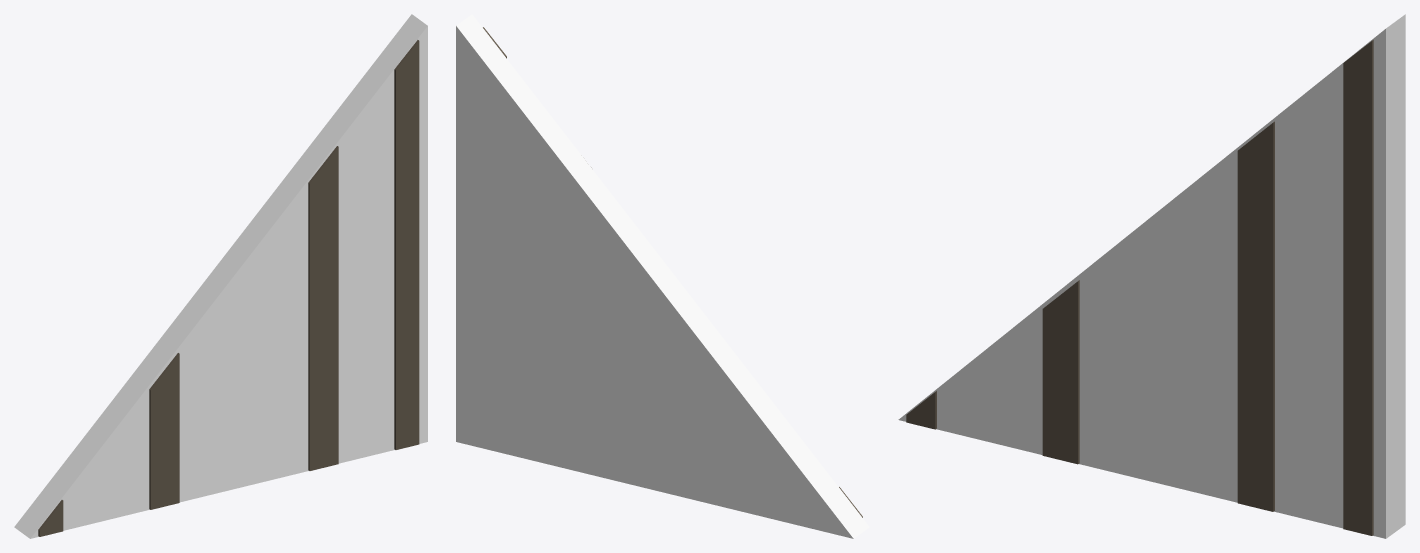
The model's file is _ROOF_trinagle_left_wood_1.fbx.
3 views of the same model, side by side, from view 1: azimuth 30°, elevation 25°; view 2: azimuth 150°, elevation 25°; view 3: azimuth 330°, elevation 25° (orthographic). The views are drawn at different scales.
Visible parts, largest first — view 1: ROOF_trinagle_left_wood_1; view 2: ROOF_trinagle_left_wood_1; view 3: ROOF_trinagle_left_wood_1.
Boxes of the visible parts, x1,y1,x2,y2 form: ROOF_trinagle_left_wood_1: (14, 14, 427, 538); ROOF_trinagle_left_wood_1: (456, 14, 869, 538); ROOF_trinagle_left_wood_1: (898, 14, 1405, 538).
Bounding box in the file's own units: 100 × 100 × 7.61.
